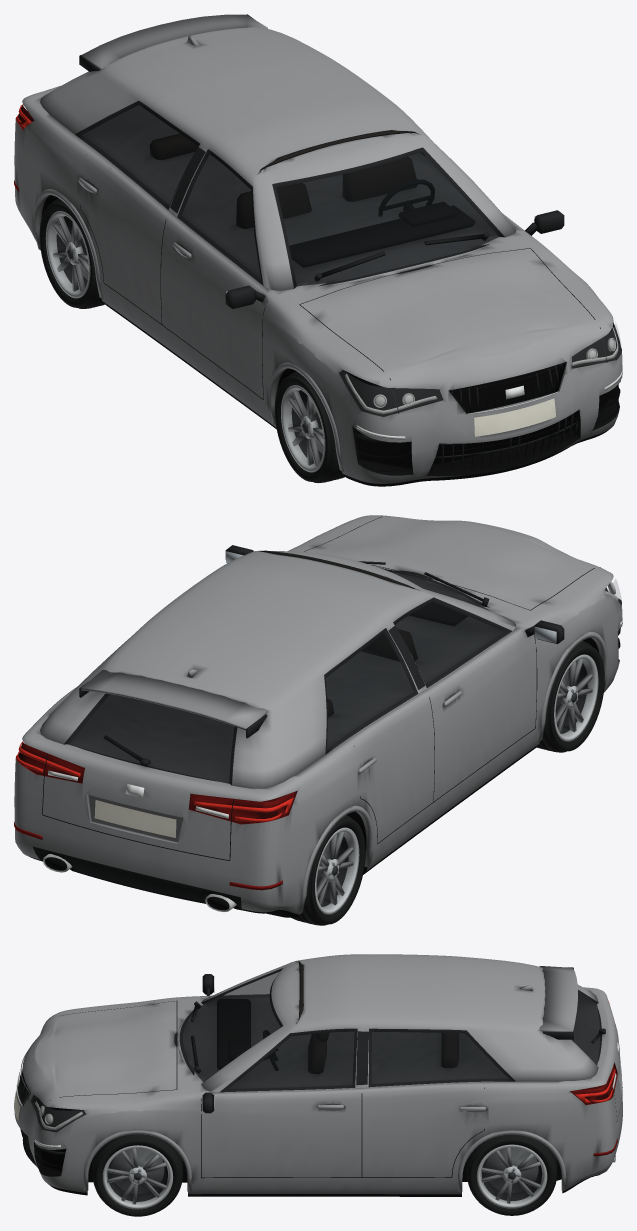
Rendered from seat-leon-cupra.glb.
3 views of the same model, one above another, from view 1: azimuth 30°, elevation 25°; view 2: azimuth 150°, elevation 25°; view 3: azimuth 270°, elevation 25° (orthographic). The views are drawn at different scales.
Parts seen in each view (by area): view 1: Coachwork, Body, Wheel_FR, Wheel_RR, Plate, Headlights; view 2: Coachwork, Body, Wheel_FR, Wheel_RR, Taillights, Plate; view 3: Coachwork, Body, Wheel_FL, Wheel_RL, Taillights, Headlights.
Boxes of the visible parts, bbox=[...] form: Coachwork: bbox=[14, 85, 622, 486]; Body: bbox=[14, 14, 621, 472]; Wheel_FR: bbox=[274, 371, 344, 483]; Wheel_RR: bbox=[39, 198, 104, 308]; Plate: bbox=[474, 398, 555, 436]; Headlights: bbox=[344, 326, 622, 439]; Coachwork: bbox=[14, 515, 622, 917]; Body: bbox=[14, 516, 621, 914]; Wheel_FR: bbox=[536, 641, 604, 752]; Wheel_RR: bbox=[291, 815, 365, 925]; Taillights: bbox=[16, 741, 295, 823]; Plate: bbox=[94, 800, 176, 837]; Coachwork: bbox=[14, 987, 622, 1196]; Body: bbox=[16, 954, 622, 1191]; Wheel_FL: bbox=[92, 1134, 183, 1216]; Wheel_RL: bbox=[466, 1134, 557, 1215]; Taillights: bbox=[570, 1001, 615, 1104]; Headlights: bbox=[34, 1101, 82, 1147].
Bounding box in the file's own units: 2.15 × 1.44 × 4.28.
